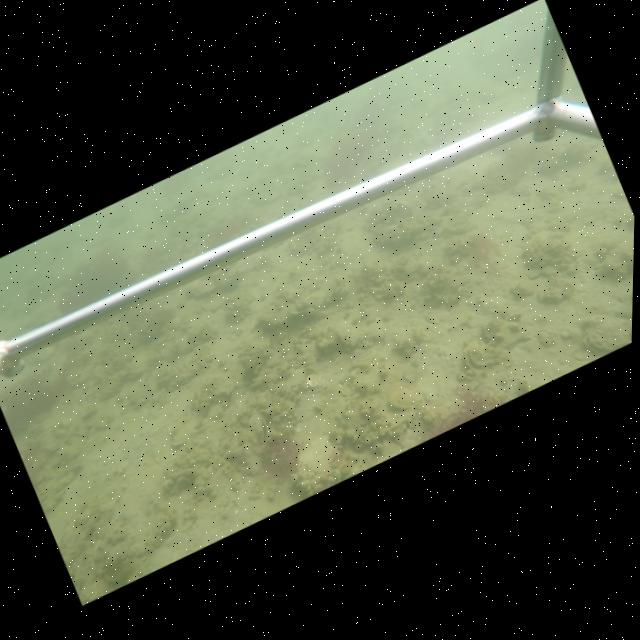Oyster-Closed: (255, 273, 349, 329)
Oyster-Open: (581, 312, 632, 356), (459, 336, 513, 376), (246, 408, 272, 444)
